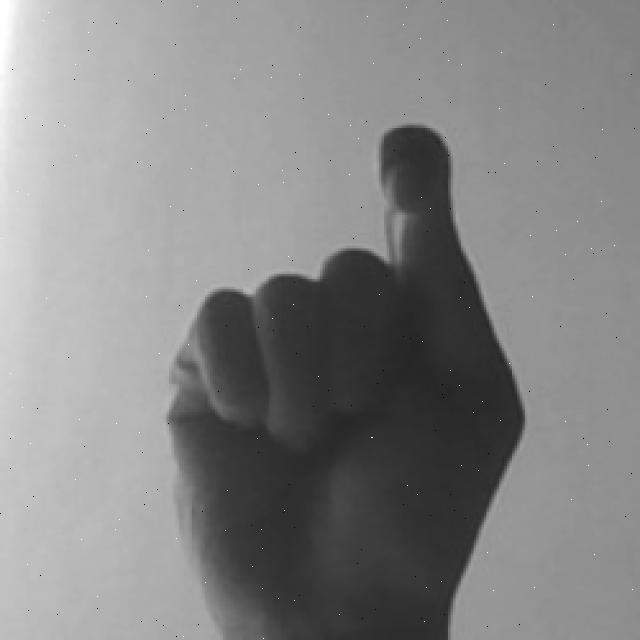T: (161, 118, 530, 640)
